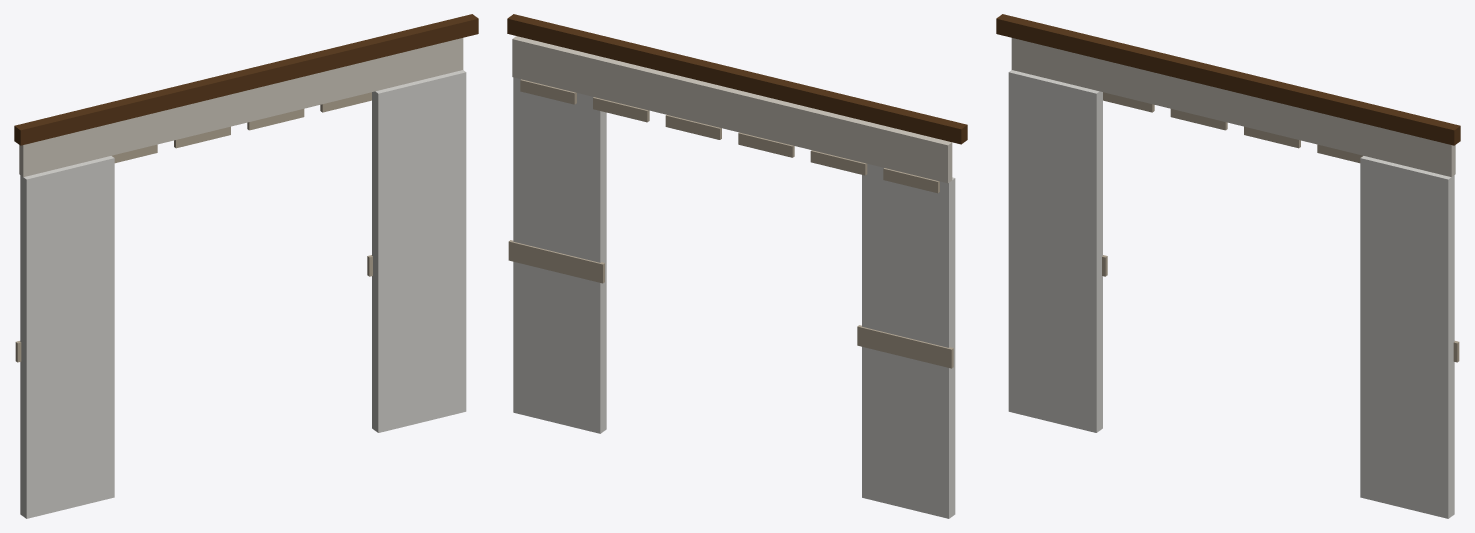
Rendered from ncb-curtains-lace.glb.
3 renders of one model, left to right at view 1: azimuth 30°, elevation 25°; view 2: azimuth 150°, elevation 25°; view 3: azimuth 330°, elevation 25°, orthographic.
Parts seen in each view (by area): view 1: box-prop; view 2: box-prop; view 3: box-prop.
Boxes of the visible parts, <box> form: box-prop: <box>14,14,478,518</box>; box-prop: <box>507,14,967,518</box>; box-prop: <box>996,14,1460,518</box>.
Bounding box in the file's own units: 2.5 × 2.05 × 0.11.
